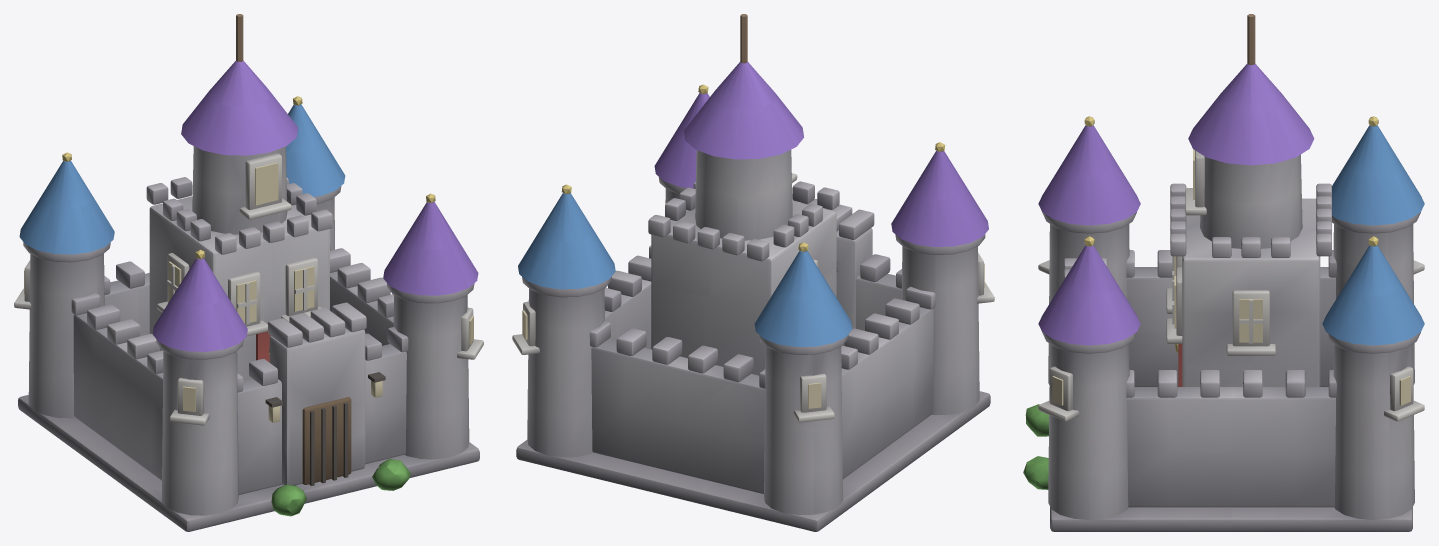
File: castle.glb
3 views of the same model, side by side, from view 1: azimuth 30°, elevation 25°; view 2: azimuth 150°, elevation 25°; view 3: azimuth 270°, elevation 25° (orthographic). The views are drawn at different scales.
Parts seen in each view (by area): view 1: main, glow; view 2: main; view 3: main, glow.
Part boxes in pixels (x1,y1,x2,y2): main: (14, 14, 483, 531); glow: (24, 162, 473, 422); main: (512, 14, 994, 531); main: (1023, 14, 1424, 531); glow: (1052, 149, 1410, 405).
Size of the model in its own units: 1.96 by 2.48 by 2.04.
